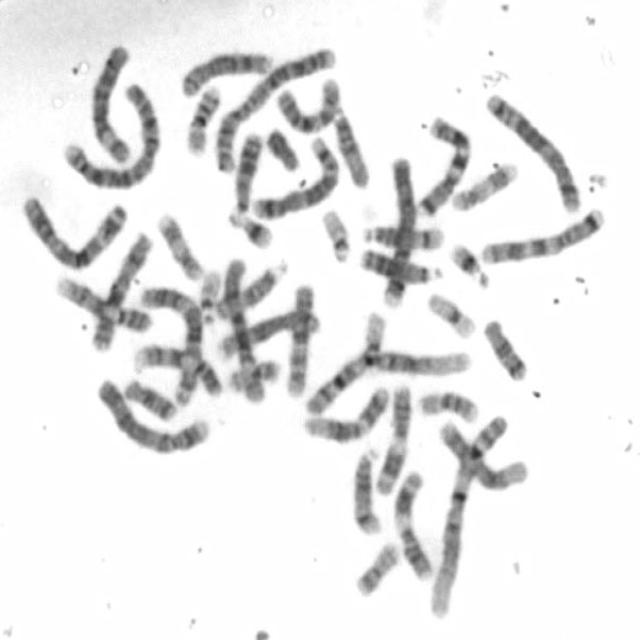A1: (426, 410, 514, 620), (299, 344, 474, 417)
A2: (208, 43, 337, 175), (57, 79, 162, 194)
A3: (17, 190, 129, 271), (135, 280, 204, 408)
B4: (92, 372, 210, 457), (378, 153, 417, 311)
B5: (482, 88, 582, 214), (249, 129, 341, 221)
C10: (272, 71, 344, 137), (280, 282, 316, 402)
C11: (370, 378, 414, 496), (390, 466, 435, 581)
C12: (436, 416, 527, 493), (298, 381, 391, 444)
C6: (218, 253, 265, 404), (87, 40, 132, 166)
C7: (477, 202, 606, 265), (413, 110, 473, 219)
C8: (212, 304, 323, 362), (175, 46, 274, 100)
C9: (52, 272, 153, 336), (130, 339, 223, 398)
D13: (225, 127, 265, 217), (356, 244, 441, 286)
D14: (348, 444, 384, 535), (360, 220, 446, 252)
D15: (212, 255, 289, 321), (331, 105, 372, 190)
E16: (183, 80, 222, 157), (414, 385, 480, 425)
E17: (447, 157, 520, 213), (154, 208, 205, 282)
E18: (479, 314, 528, 382), (120, 374, 179, 423)
F19: (424, 288, 478, 340), (361, 306, 389, 381)
F20: (352, 538, 401, 599), (225, 355, 285, 398)
G21: (448, 238, 490, 289), (228, 208, 276, 250)
G22: (318, 206, 353, 265), (195, 265, 222, 320)
X: (88, 230, 154, 352)
Y: (263, 123, 302, 174)
